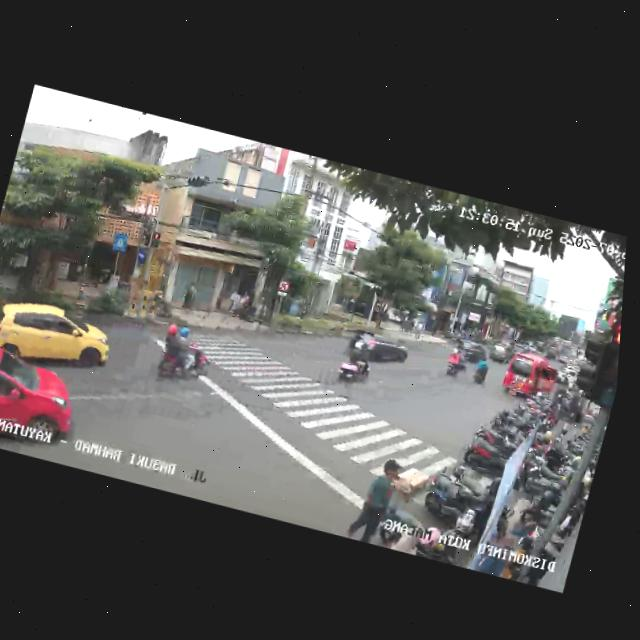car: (0, 291, 119, 385), (0, 346, 88, 466), (499, 349, 566, 410), (348, 331, 411, 377), (454, 338, 491, 364), (487, 341, 512, 366)
motorcycle: (146, 319, 218, 394), (334, 334, 378, 390), (443, 344, 468, 382), (468, 355, 492, 391)
person: (347, 452, 408, 548)
